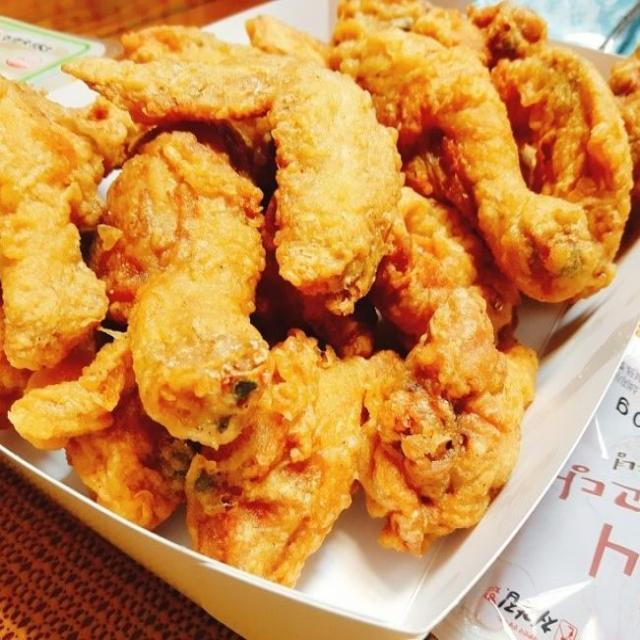Frango: (0, 18, 628, 517)
